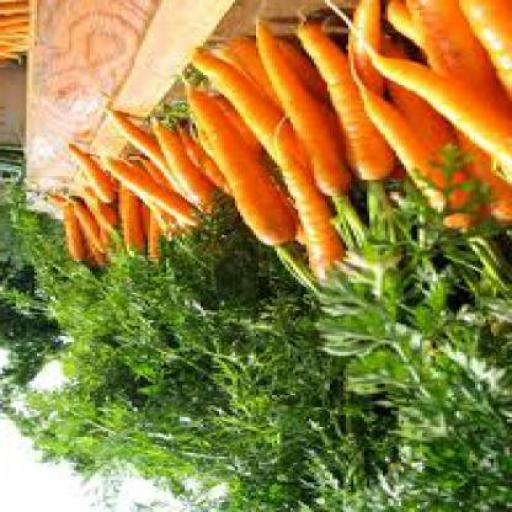biodegradable: (325, 144, 511, 511), (42, 296, 336, 482), (132, 373, 392, 511), (353, 67, 491, 237), (190, 83, 304, 253), (256, 26, 362, 202), (369, 57, 511, 187), (298, 22, 401, 186), (50, 272, 232, 364), (196, 57, 309, 184), (351, 12, 406, 191), (412, 2, 502, 111), (219, 206, 291, 334), (111, 160, 203, 234), (288, 170, 346, 287), (390, 87, 464, 170), (158, 124, 222, 218), (118, 115, 188, 191), (456, 134, 510, 230), (176, 126, 246, 198), (169, 235, 227, 320), (464, 2, 512, 98), (277, 43, 338, 115), (224, 40, 282, 114), (222, 102, 267, 176), (69, 141, 118, 207), (56, 194, 108, 253), (18, 208, 58, 282), (2, 2, 34, 66), (388, 2, 428, 53), (63, 201, 93, 265), (121, 189, 146, 261), (145, 160, 182, 202), (87, 194, 121, 239), (150, 210, 175, 266), (158, 211, 179, 246), (90, 245, 111, 271), (10, 186, 26, 208), (114, 234, 121, 261)
